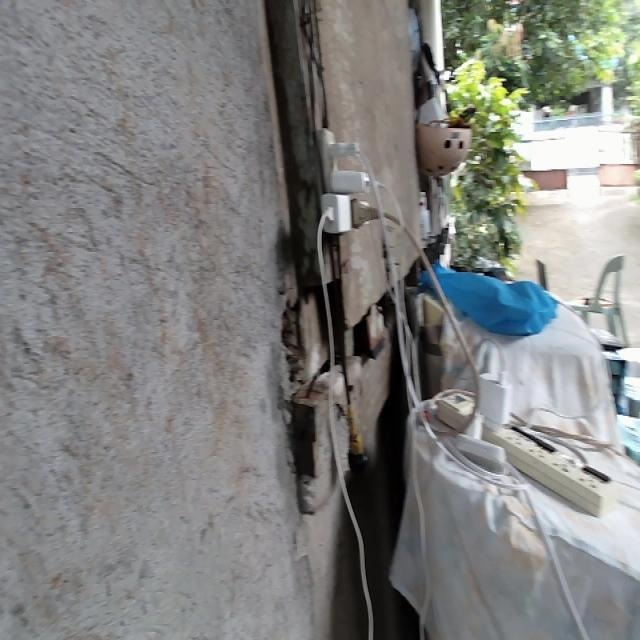-: (311, 121, 381, 239)
